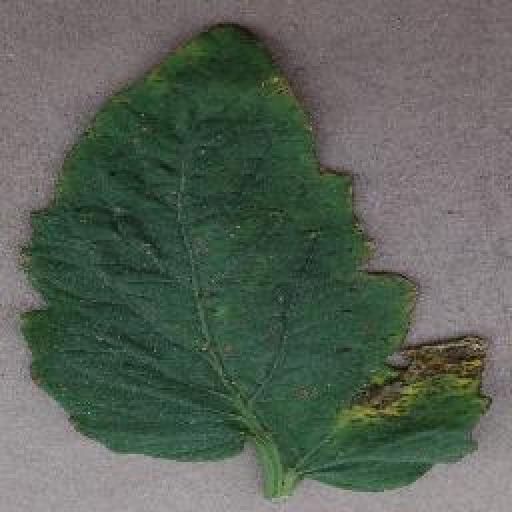Bacterial Spot: (18, 18, 494, 494)
